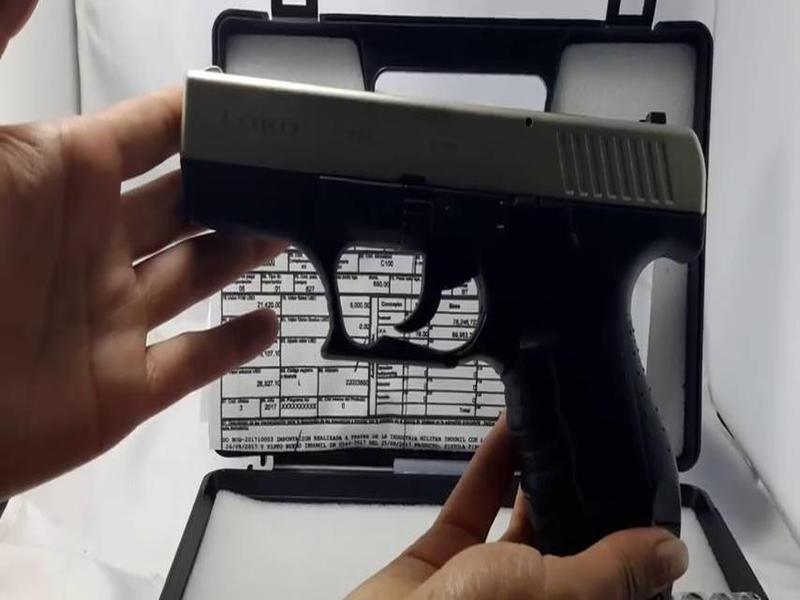Pistola: (162, 59, 731, 588)
